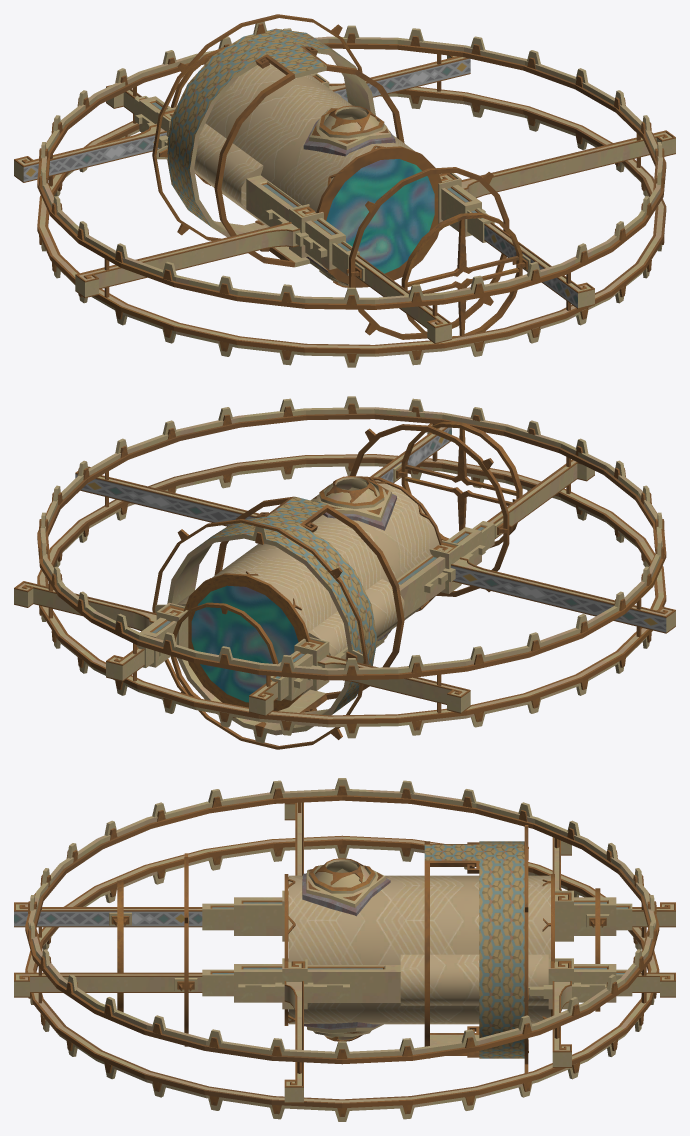
File: Proxy_WHS.glb
The picture shows the model from 3 angles, top to bottom: view 1: azimuth 30°, elevation 25°; view 2: azimuth 150°, elevation 25°; view 3: azimuth 270°, elevation 25°; orthographic projection.
Visible parts, largest first — view 1: Structure_NOM_WhiteHoleStation_Proxy; view 2: Structure_NOM_WhiteHoleStation_Proxy; view 3: Structure_NOM_WhiteHoleStation_Proxy.
Boxes of the visible parts, box(x1,y1,x2,y2) form: Structure_NOM_WhiteHoleStation_Proxy: box(14, 14, 675, 367); Structure_NOM_WhiteHoleStation_Proxy: box(14, 396, 675, 749); Structure_NOM_WhiteHoleStation_Proxy: box(14, 778, 675, 1121).
Bounding box in the file's own units: 84.41 × 30.1 × 81.45.
Materials: 1 (1 with a texture image).
